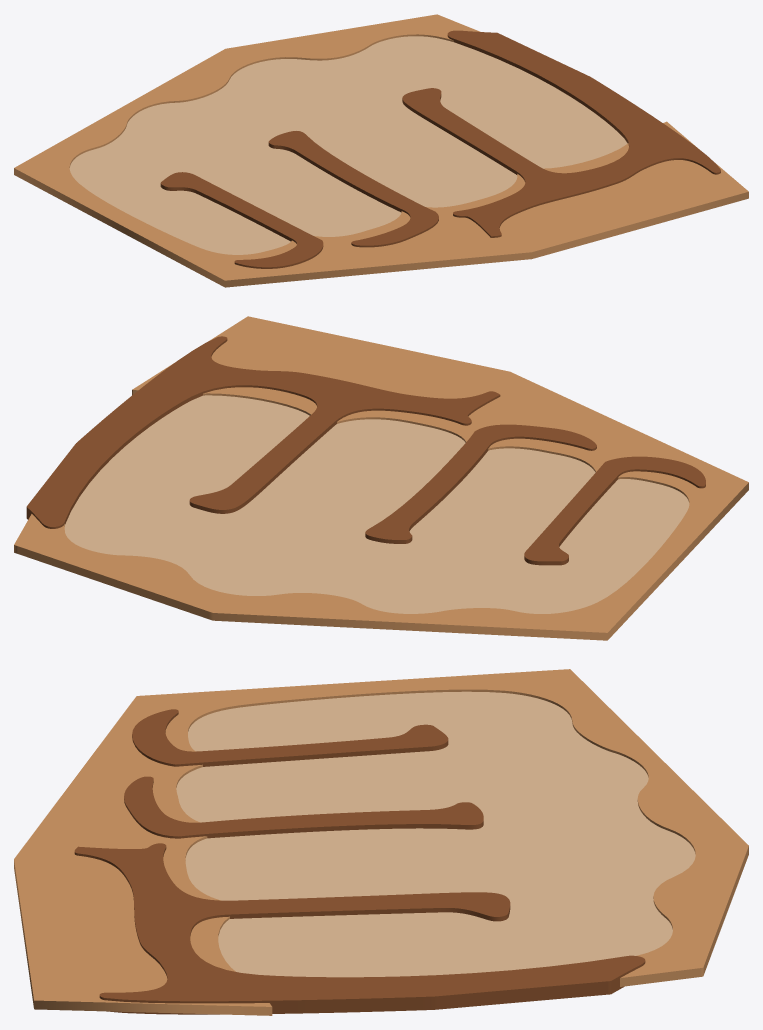
The model's file is emoji_u1f44a_1f3fc.glb.
3 renders of one model, top to bottom at view 1: azimuth 30°, elevation 25°; view 2: azimuth 150°, elevation 25°; view 3: azimuth 270°, elevation 25°, orthographic. The views are drawn at different scales.
Parts seen in each view (by area): view 1: emoji_u1f44a_1f3fc; view 2: emoji_u1f44a_1f3fc; view 3: emoji_u1f44a_1f3fc.
Boxes of the visible parts, left/top/right/bottom form: emoji_u1f44a_1f3fc: left=14, top=14, right=748, bottom=287; emoji_u1f44a_1f3fc: left=14, top=316, right=748, bottom=640; emoji_u1f44a_1f3fc: left=14, top=669, right=748, bottom=1015.
Bounding box in the file's own units: 0.0325 × 0.0006 × 0.0299.
